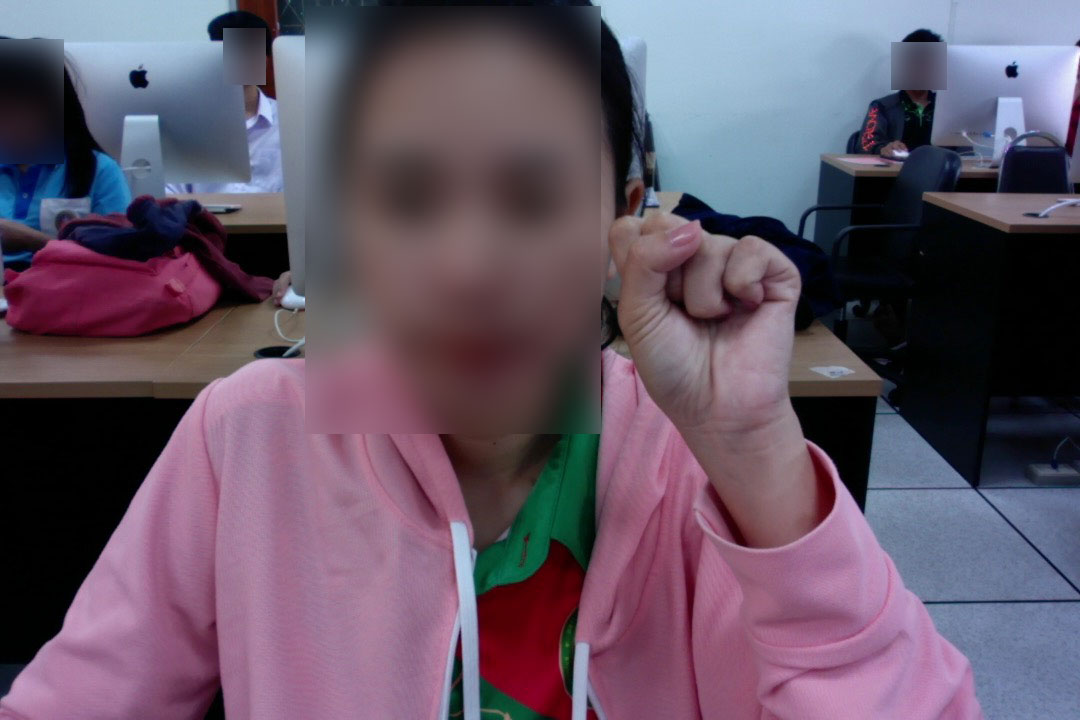sor: (603, 208, 808, 449)
